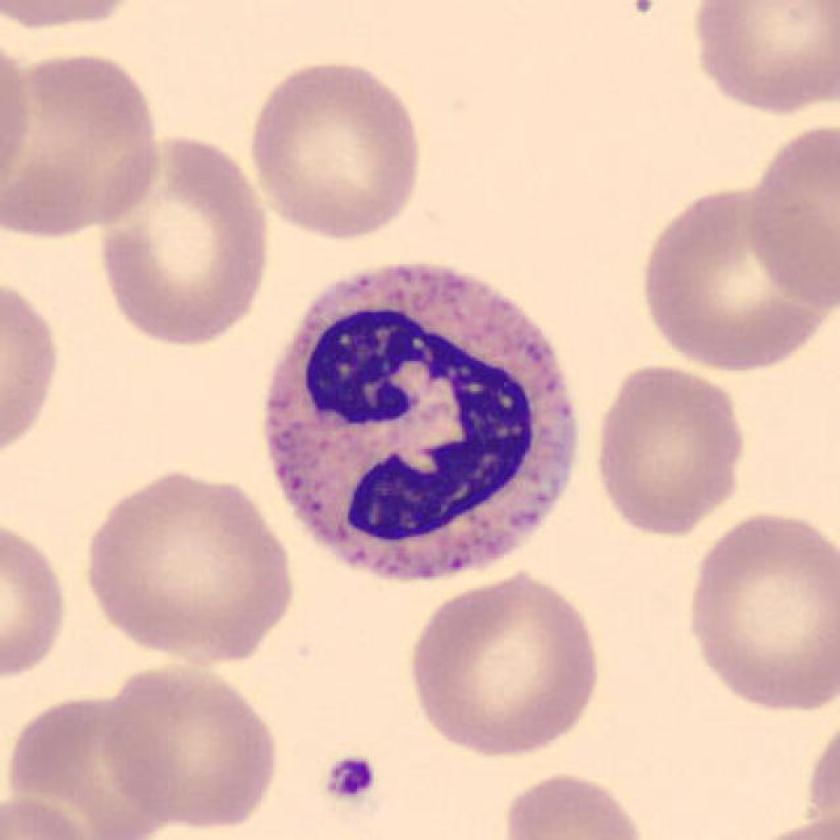neutrophil: (269, 266, 579, 579)
